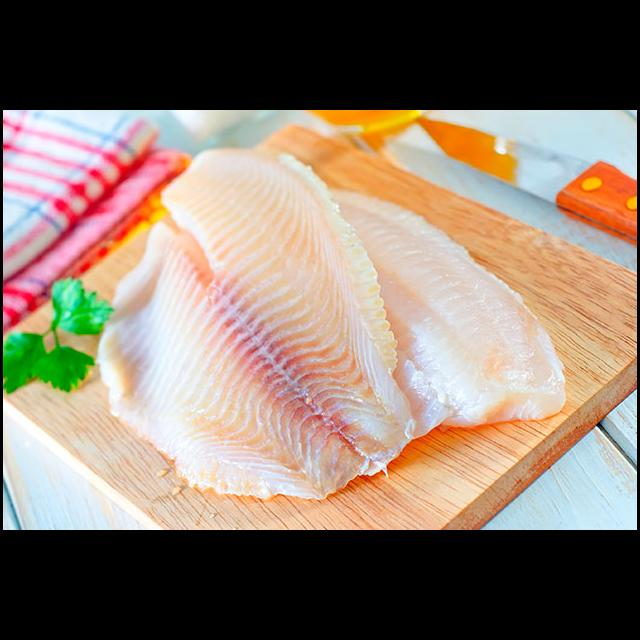fish: (84, 133, 422, 509)
